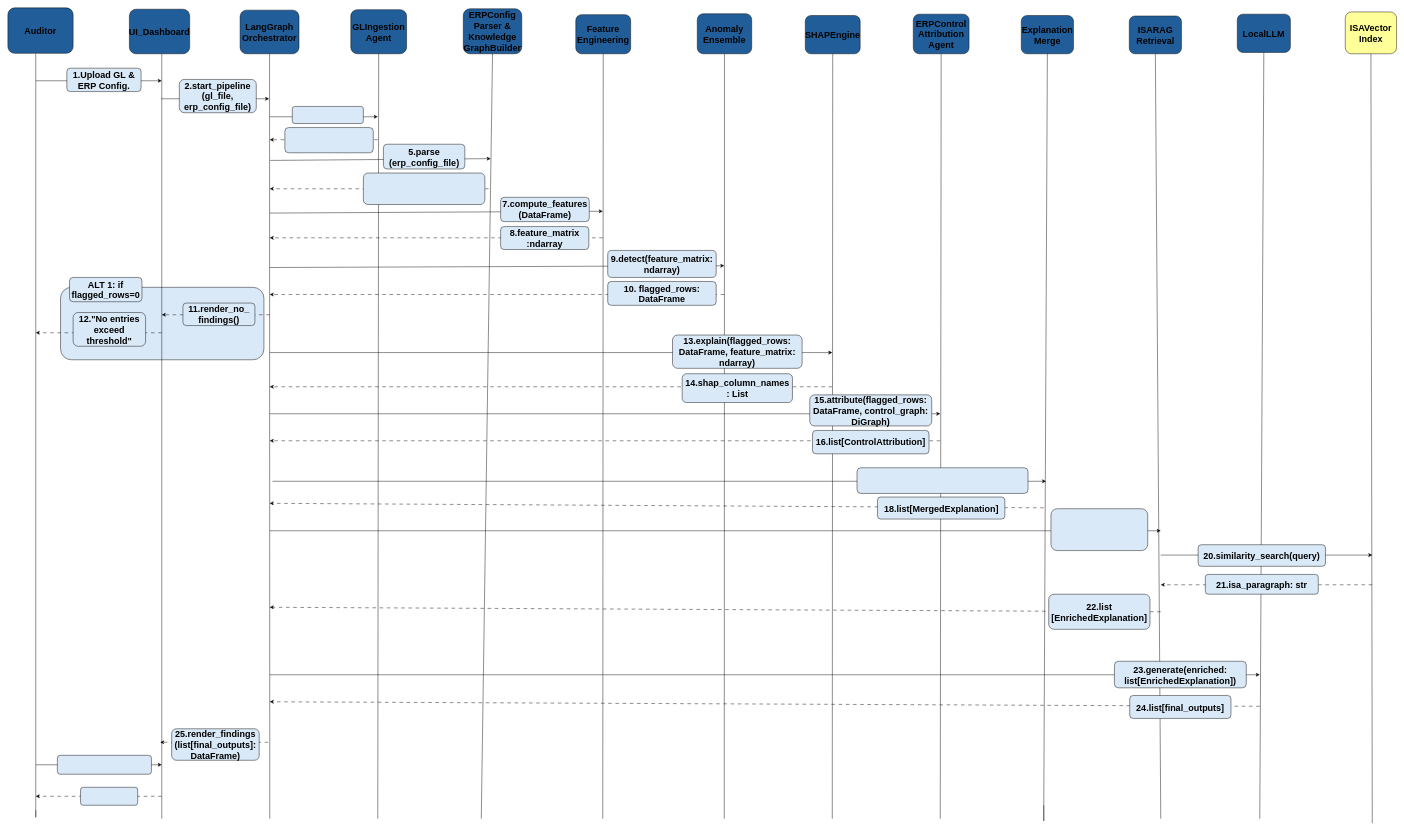
Image size: 1404x832. Some labels were removed from this diagram. The shapes that lost their labels are listed below. From the top down, each one's centre as x and y in pixels, then its label:
At point 327,115: "3.ingest(gl_file)".
At point 328,140: "4. tuple(DataFrame, list[IngestionIssue])".
At point 424,189: "6.tuple(list [ControlRecord], DiGraph)".
At point 942,480: "17.merge( shap_column_names: List , control_attrs: list[ControlAttribution])".
At point 1099,529: "19.retrieve (merged:list [MergedExplanation])".
At point 104,764: "26.export(format: str)".
At point 109,796: "27. file".
